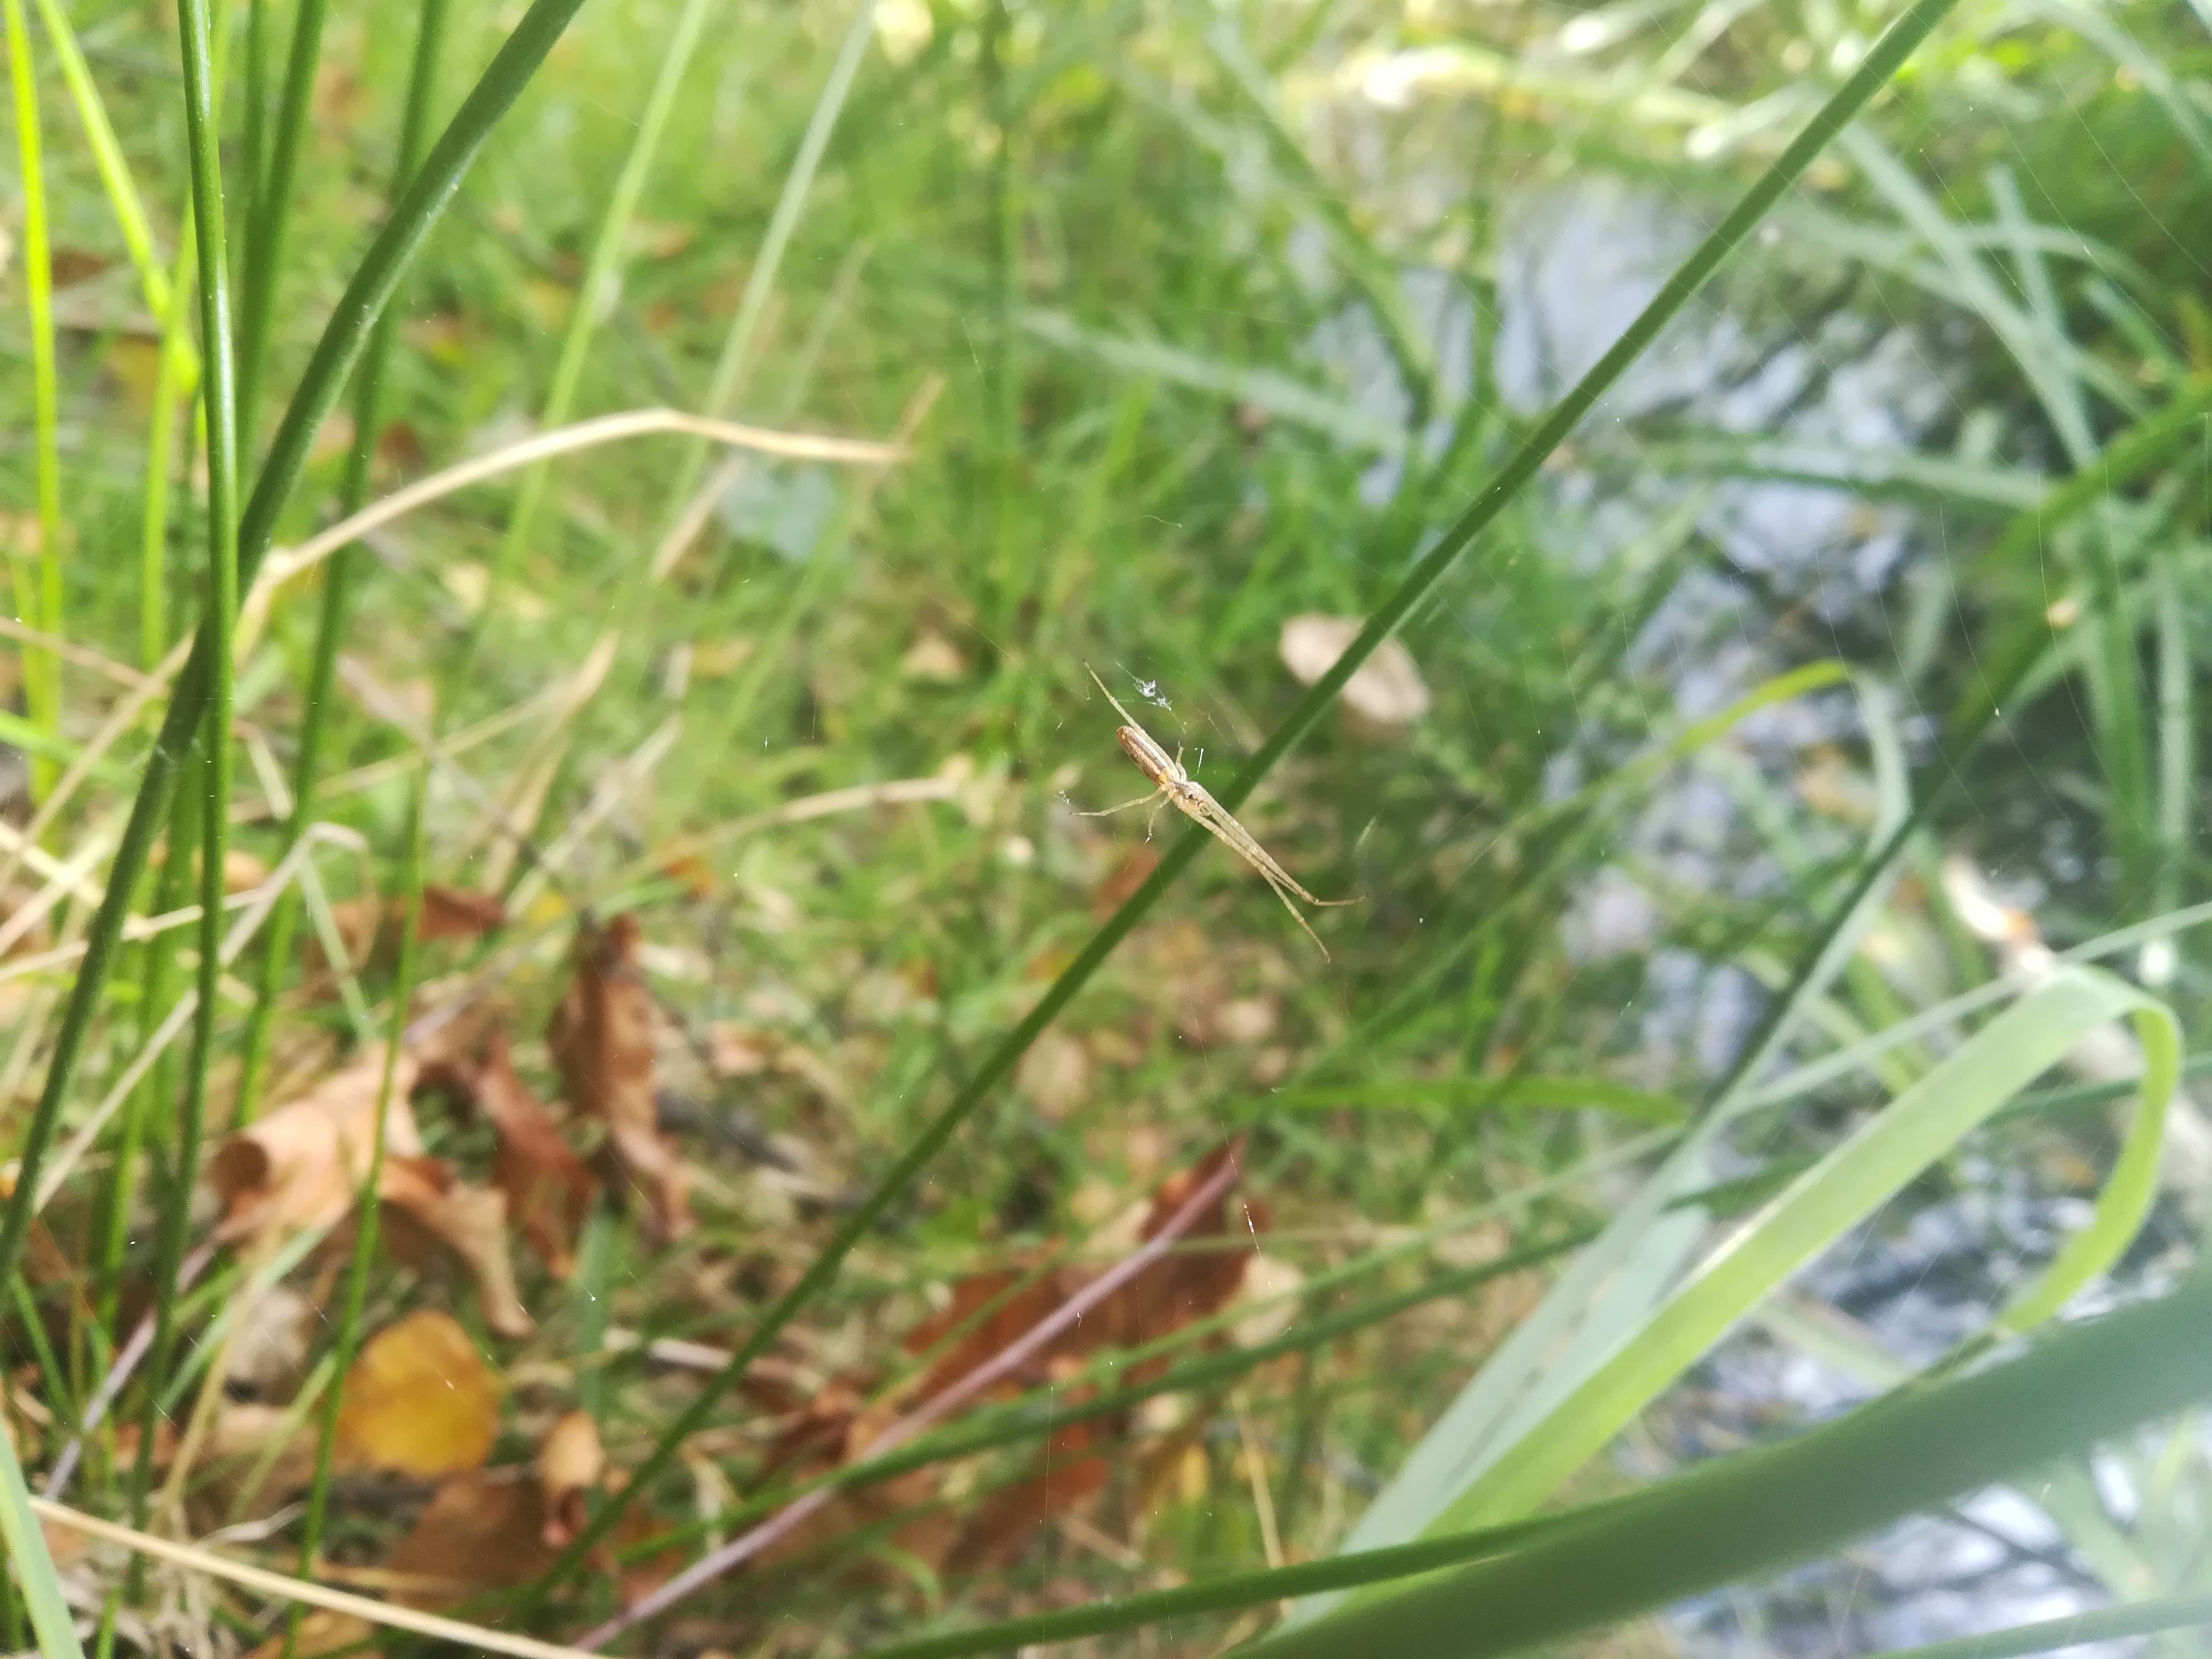spider: (1035, 627, 1399, 993)
